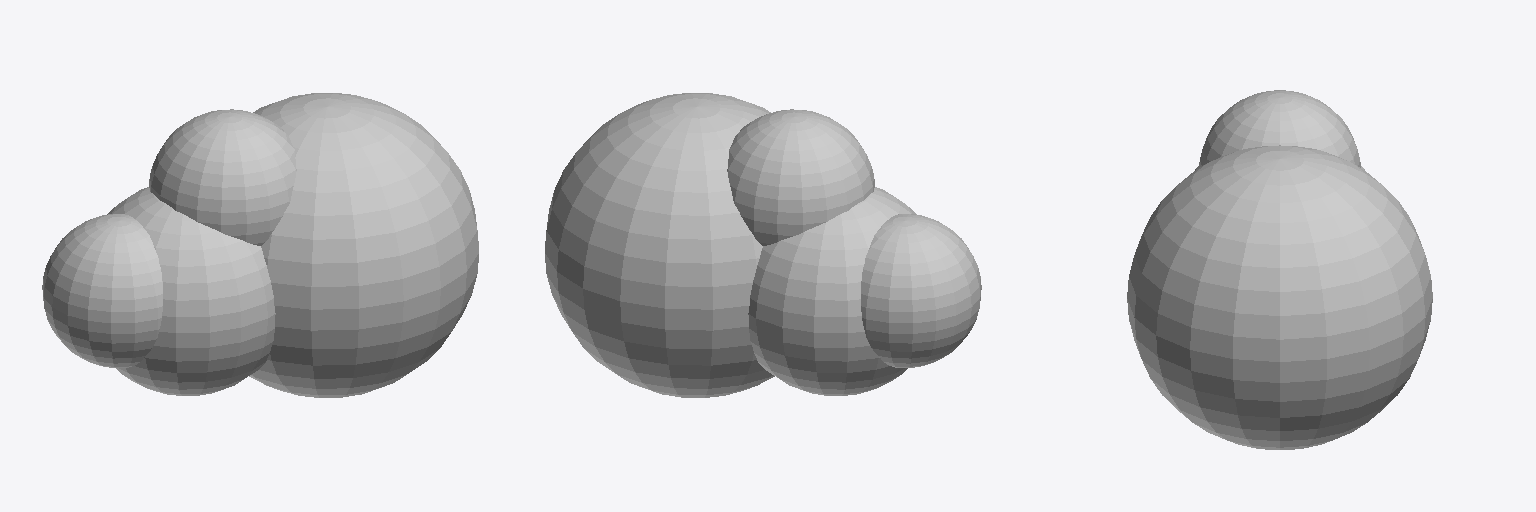
Rendered from cloud3.obj.
3 views of the same model, side by side, from view 1: azimuth 30°, elevation 25°; view 2: azimuth 150°, elevation 25°; view 3: azimuth 270°, elevation 25° (orthographic).
Visible parts, largest first — view 1: cloud3 pSphere5, cloud3 pSphere2, pSphere1 cloud3, cloud3 pSphere4; view 2: cloud3 pSphere5, cloud3 pSphere2, pSphere1 cloud3, cloud3 pSphere4; view 3: cloud3 pSphere5, cloud3 pSphere4.
Boxes of the visible parts, x1,y1,x2,y2 form: cloud3 pSphere5: [249, 93, 478, 397]; cloud3 pSphere2: [107, 187, 275, 395]; pSphere1 cloud3: [42, 214, 162, 367]; cloud3 pSphere4: [149, 109, 296, 245]; cloud3 pSphere5: [545, 93, 774, 397]; cloud3 pSphere2: [748, 187, 916, 395]; pSphere1 cloud3: [861, 214, 981, 367]; cloud3 pSphere4: [727, 109, 874, 245]; cloud3 pSphere5: [1127, 145, 1432, 449]; cloud3 pSphere4: [1199, 90, 1360, 167].
Size of the model in its own units: 6.08 by 4.15 by 3.95.